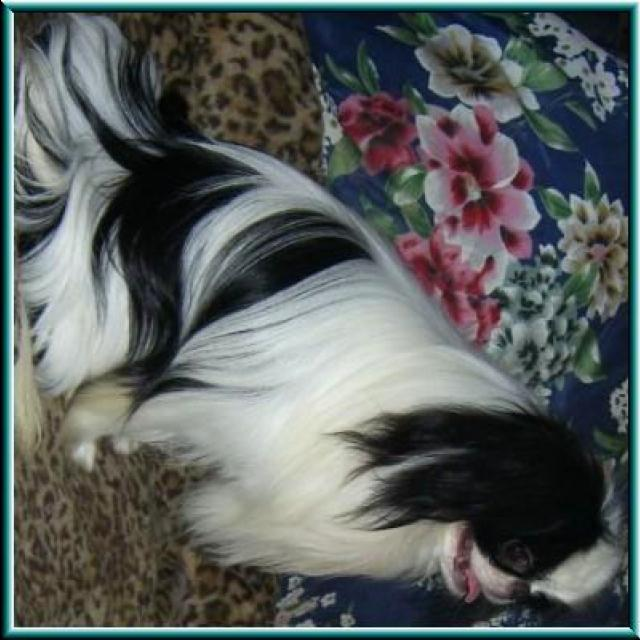husky: (16, 13, 627, 621)
